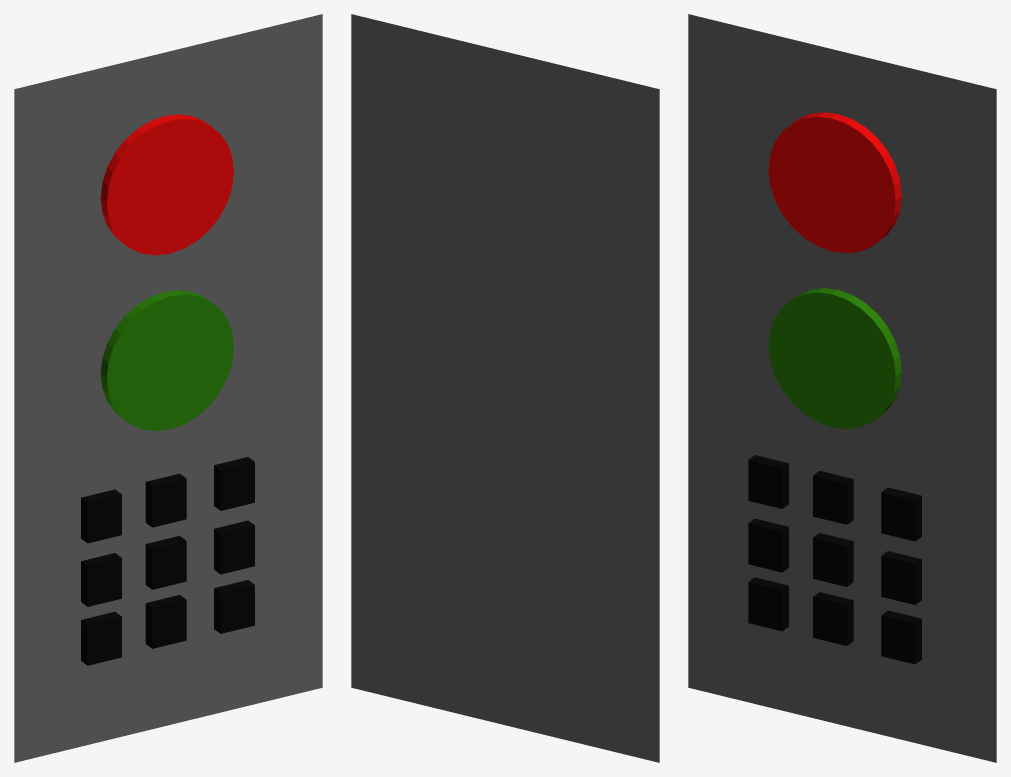
File: Controls 1.FBX
3 views of the same model, side by side, from view 1: azimuth 30°, elevation 25°; view 2: azimuth 150°, elevation 25°; view 3: azimuth 330°, elevation 25° (orthographic).
Parts seen in each view (by area): view 1: Plane024, Circle001, Circle002, Rectangle005, Rectangle002, Rectangle012, Rectangle006, Rectangle003, Rectangle004, Rectangle011, Rectangle013, Rectangle001; view 2: Plane024; view 3: Plane024, Circle001, Circle002, Rectangle003, Rectangle006, Rectangle013, Rectangle001, Rectangle011, Rectangle005, Rectangle002, Rectangle004, Rectangle012.
Boxes of the visible parts, <box> form: Plane024: <box>14,14,322,762</box>; Circle001: <box>100,114,233,255</box>; Circle002: <box>100,290,233,431</box>; Rectangle005: <box>145,535,186,589</box>; Rectangle002: <box>145,473,186,527</box>; Rectangle012: <box>145,595,186,648</box>; Rectangle006: <box>214,520,254,574</box>; Rectangle003: <box>214,457,254,510</box>; Rectangle004: <box>81,611,121,665</box>; Rectangle011: <box>81,553,121,606</box>; Rectangle013: <box>214,580,254,633</box>; Rectangle001: <box>81,489,121,543</box>; Plane024: <box>351,14,659,762</box>; Plane024: <box>688,14,996,762</box>; Circle001: <box>768,112,901,253</box>; Circle002: <box>768,288,901,429</box>; Rectangle003: <box>881,487,921,541</box>; Rectangle006: <box>881,551,921,604</box>; Rectangle013: <box>881,610,921,664</box>; Rectangle001: <box>748,455,788,508</box>; Rectangle011: <box>748,518,788,572</box>; Rectangle005: <box>813,533,853,586</box>; Rectangle002: <box>813,471,853,524</box>; Rectangle004: <box>748,577,788,631</box>; Rectangle012: <box>813,592,853,645</box>.
Size of the model in its own units: 1.45 by 3.03 by 0.0553.
